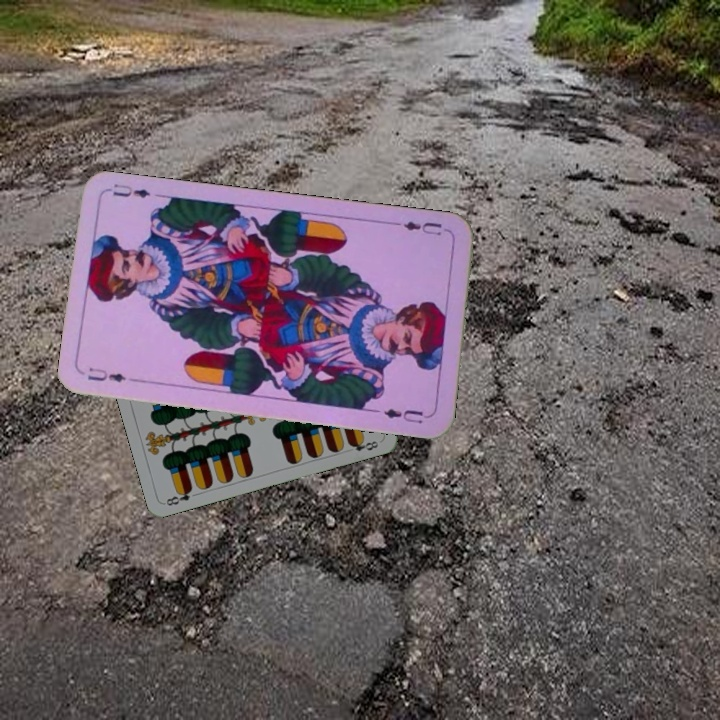E8: (162, 484, 195, 508)
EU: (83, 363, 141, 385), (392, 217, 444, 239)
